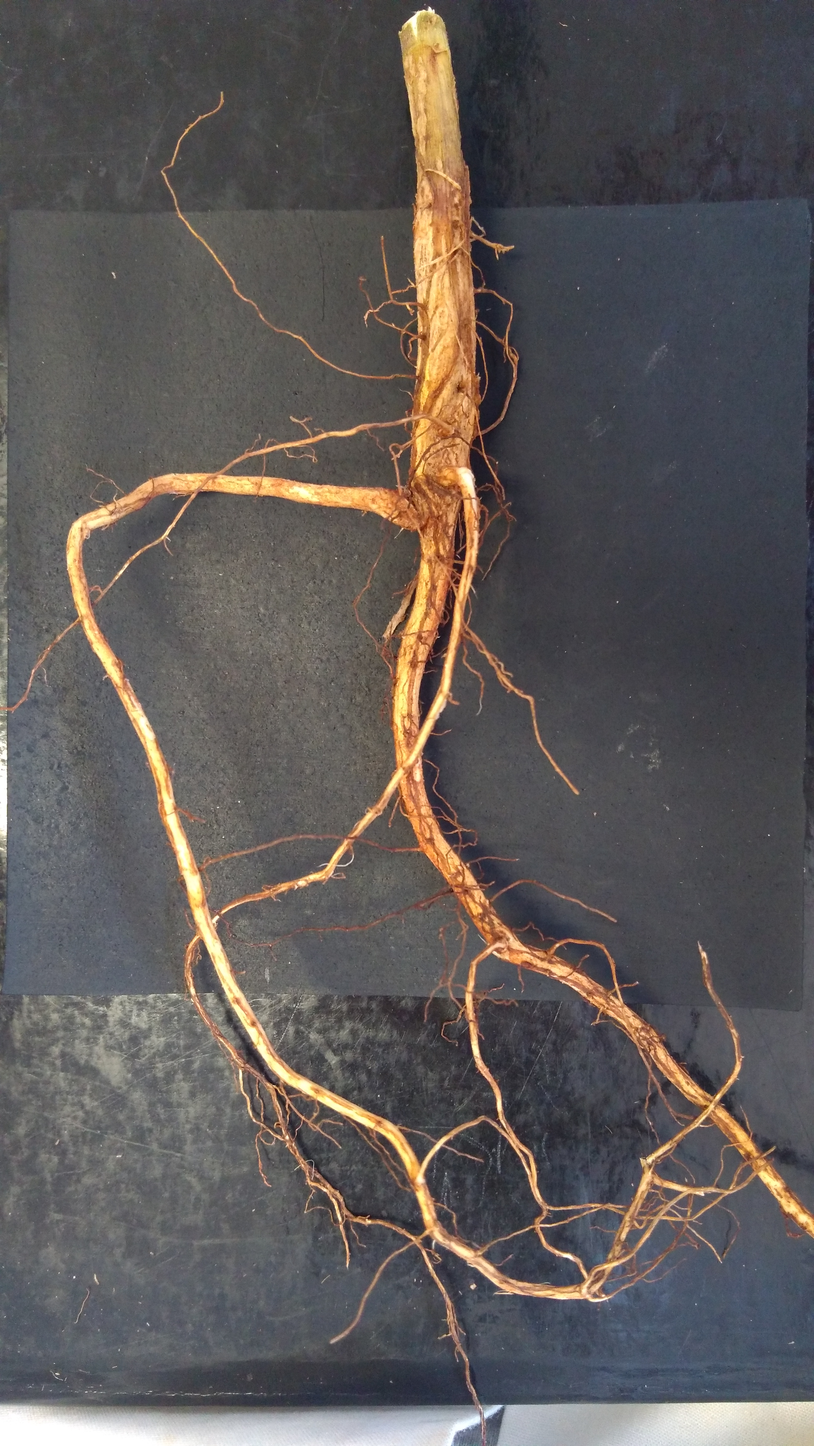nodule: (410, 474, 455, 518), (395, 487, 430, 530), (435, 464, 459, 487), (474, 377, 481, 406), (497, 243, 505, 253), (470, 1283, 477, 1290), (409, 308, 415, 316), (465, 863, 470, 868), (396, 453, 400, 458), (443, 653, 447, 658)
